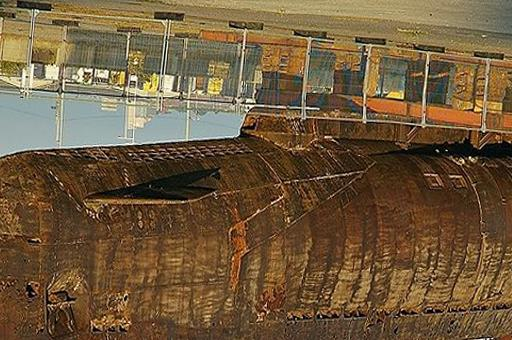rust: (9, 125, 506, 340)
